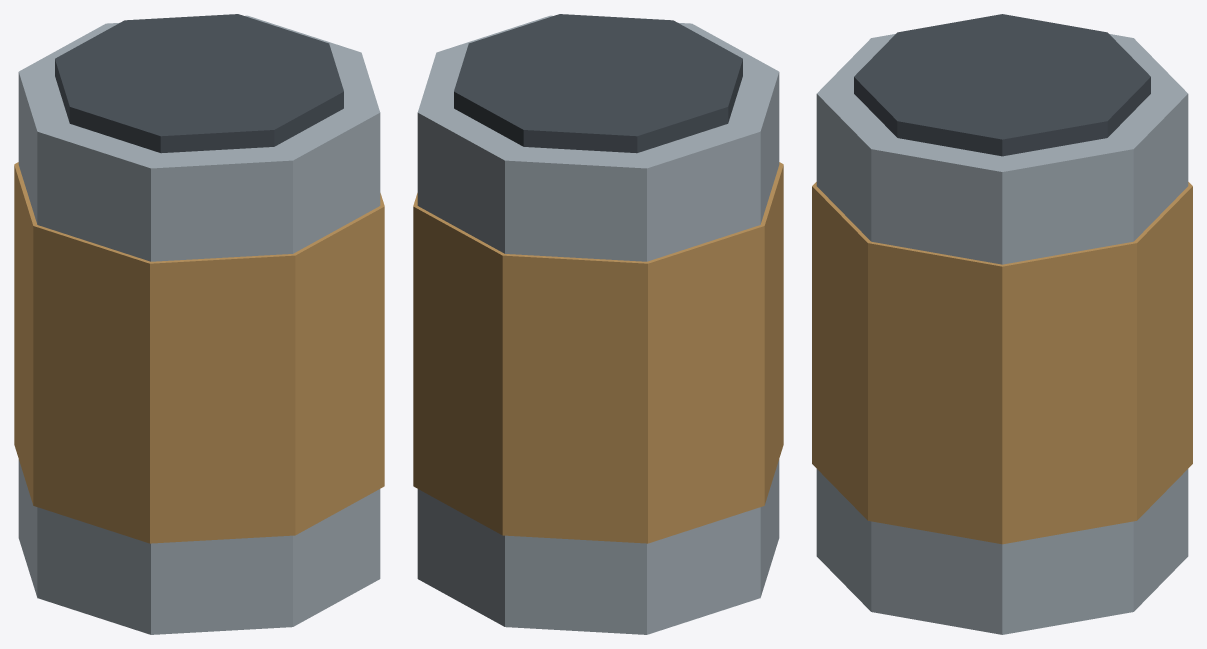
Rendered from FD_Can_Beans_01.glb.
The picture shows the model from 3 angles, left to right: view 1: azimuth 30°, elevation 25°; view 2: azimuth 150°, elevation 25°; view 3: azimuth 270°, elevation 25°; orthographic projection.
Visible parts, largest first — view 1: FD_Can_Beans_01; view 2: FD_Can_Beans_01; view 3: FD_Can_Beans_01.
Boxes of the visible parts, bbox=[...] form: FD_Can_Beans_01: bbox=[14, 14, 384, 634]; FD_Can_Beans_01: bbox=[413, 14, 783, 634]; FD_Can_Beans_01: bbox=[812, 14, 1192, 634].
Size of the model in its own units: 0.082 by 0.114 by 0.082.
1 material, 1 textured.
